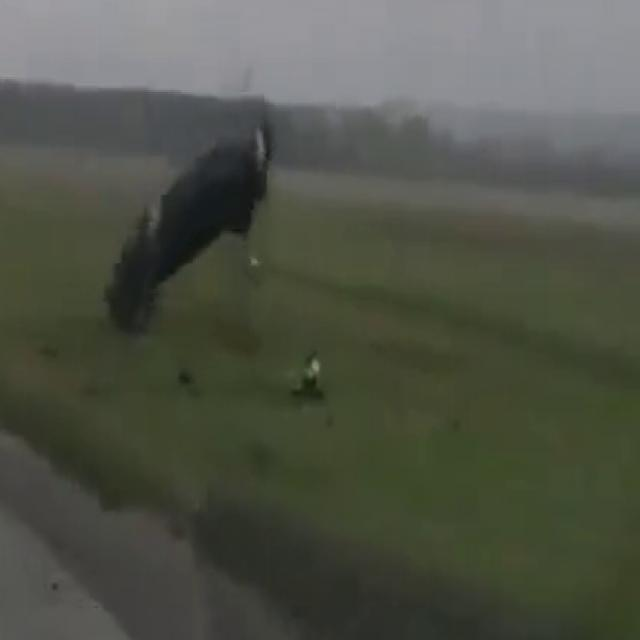accident: (70, 106, 286, 372)
